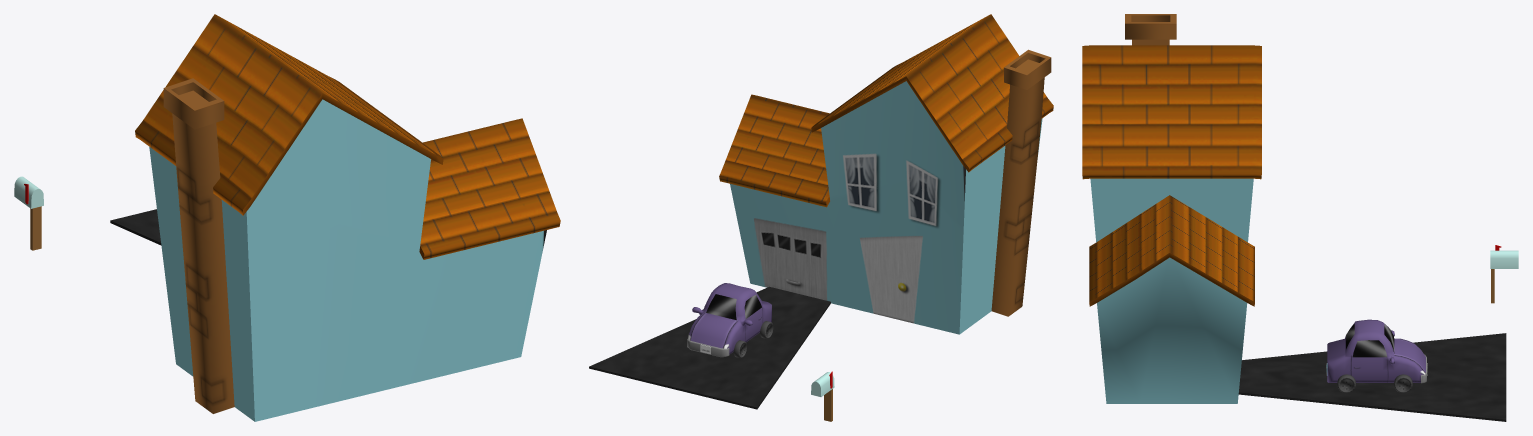
The model's file is House.FBX.
3 views of the same model, side by side, from view 1: azimuth 30°, elevation 25°; view 2: azimuth 150°, elevation 25°; view 3: azimuth 270°, elevation 25° (orthographic). The views are drawn at different scales.
Parts seen in each view (by area): view 1: Box001, Box004, Cylinder007, Box005; view 2: Box001, Box004, Box003; view 3: Box001, Box004, Box003, Cylinder007.
Boxes of the visible parts, x1,y1,x2,y2 form: Box001: (135, 14, 560, 421); Box004: (110, 209, 161, 245); Cylinder007: (14, 176, 43, 208); Box005: (30, 206, 41, 250); Box001: (719, 14, 1053, 334); Box004: (589, 286, 830, 409); Box003: (687, 283, 771, 357); Box001: (1082, 14, 1261, 403); Box004: (1238, 333, 1506, 421); Box003: (1327, 319, 1426, 383); Cylinder007: (1490, 250, 1518, 268).
Bounding box in the file's own units: 71.2 × 62.39 × 90.17.
